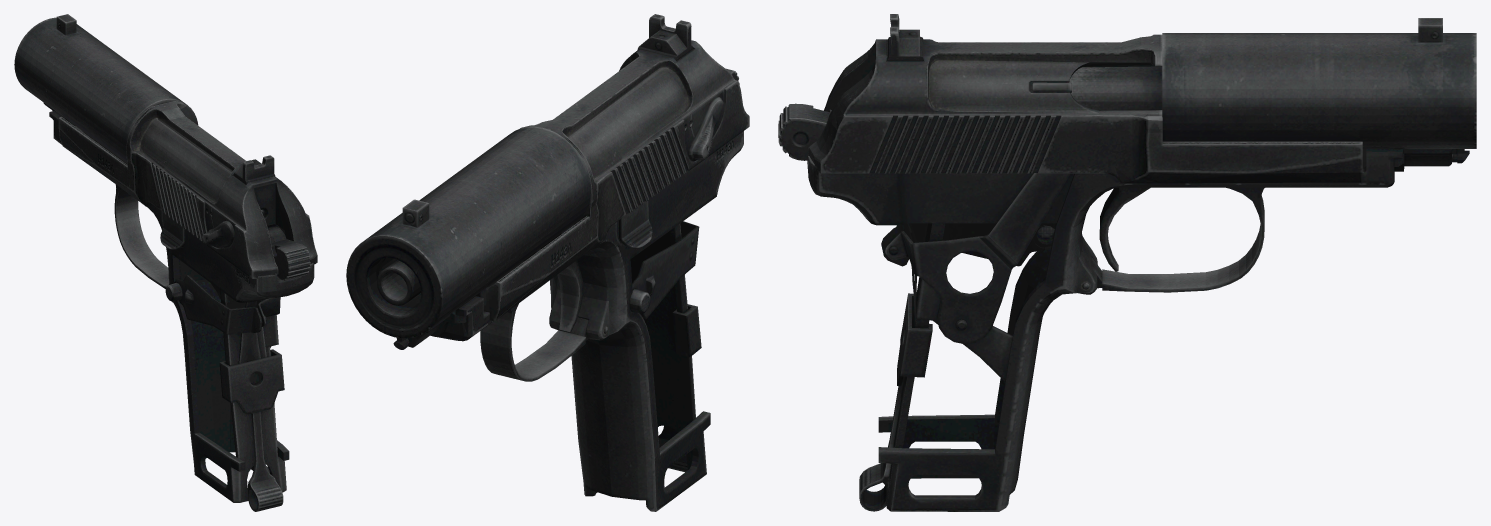
The picture shows the model from 3 angles, left to right: view 1: azimuth 30°, elevation 25°; view 2: azimuth 150°, elevation 25°; view 3: azimuth 270°, elevation 25°; orthographic projection. The views are drawn at different scales.
Parts seen in each view (by area): view 1: TW_56e0598dd2720bb5668b45a6_PZ_Import; view 2: TW_56e0598dd2720bb5668b45a6_PZ_Import; view 3: TW_56e0598dd2720bb5668b45a6_PZ_Import.
Boxes of the visible parts, x1,y1,x2,y2 form: TW_56e0598dd2720bb5668b45a6_PZ_Import: (14, 14, 317, 511); TW_56e0598dd2720bb5668b45a6_PZ_Import: (346, 14, 749, 511); TW_56e0598dd2720bb5668b45a6_PZ_Import: (778, 14, 1476, 511).
Bounding box in the file's own units: 0.0193 × 0.1075 × 0.0818.
1 material, 1 textured.
